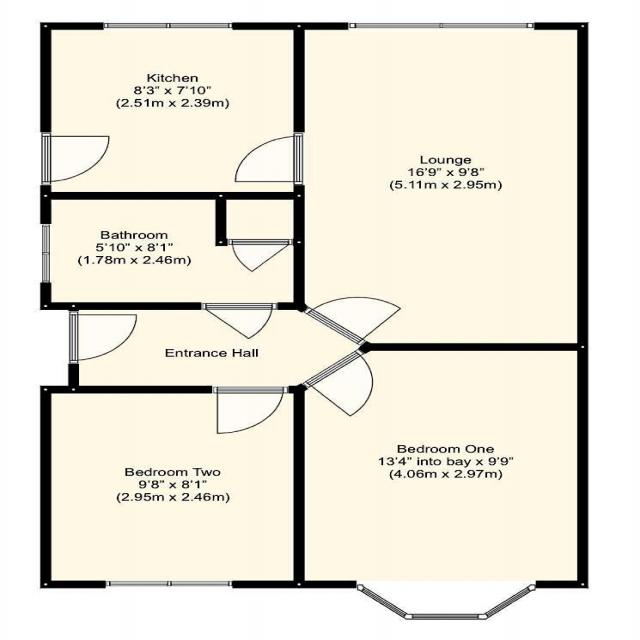DOOR: (299, 349, 379, 420), (302, 294, 406, 346), (68, 313, 138, 362), (40, 135, 111, 183), (233, 135, 304, 183), (215, 386, 284, 435), (204, 302, 274, 340), (230, 238, 290, 274)
ROOM: (232, 22, 589, 351), (293, 340, 588, 620), (39, 385, 305, 588), (40, 22, 306, 200)
WINDOW: (483, 586, 533, 619), (360, 586, 408, 619), (354, 23, 441, 29), (411, 613, 480, 620), (442, 23, 529, 28), (108, 581, 169, 587), (170, 581, 230, 587), (107, 23, 168, 28), (169, 23, 230, 28), (41, 225, 51, 254), (41, 254, 51, 282)
